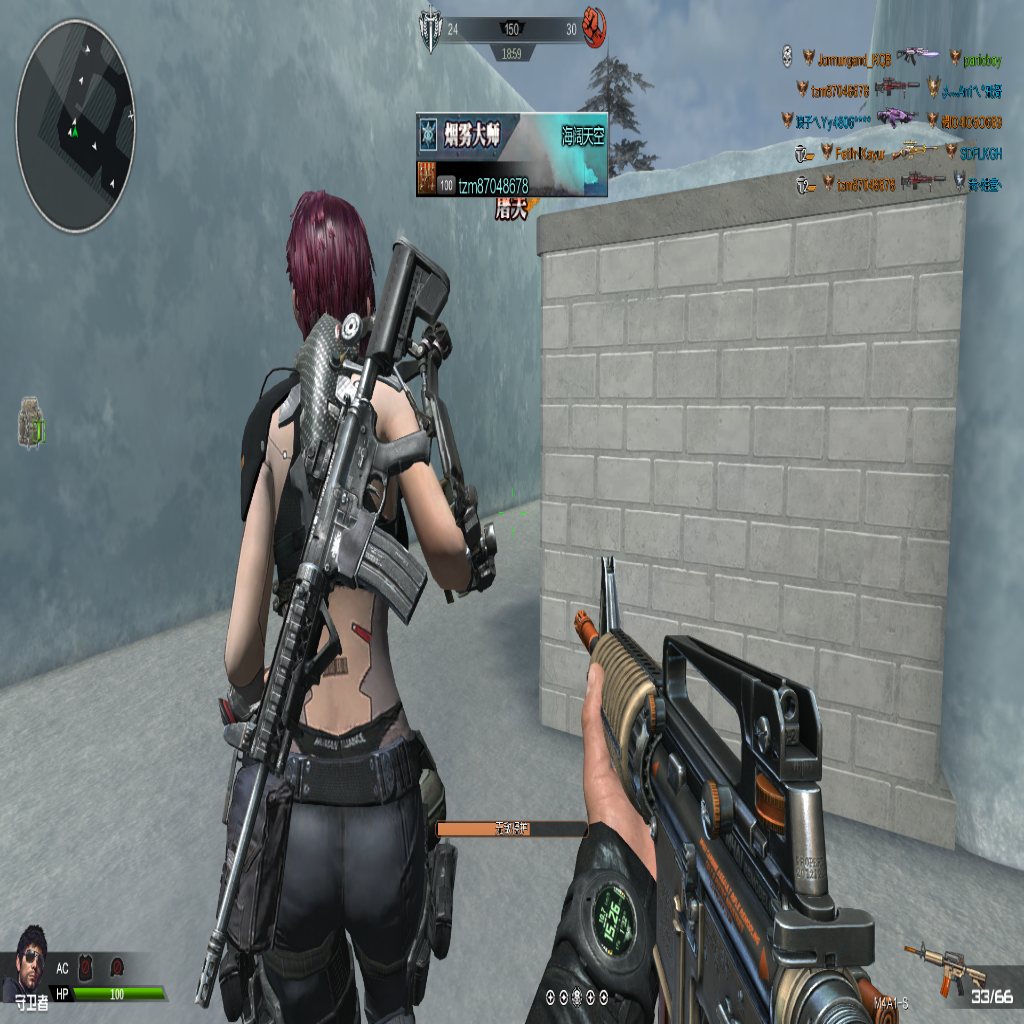ct: (228, 213, 379, 749)
